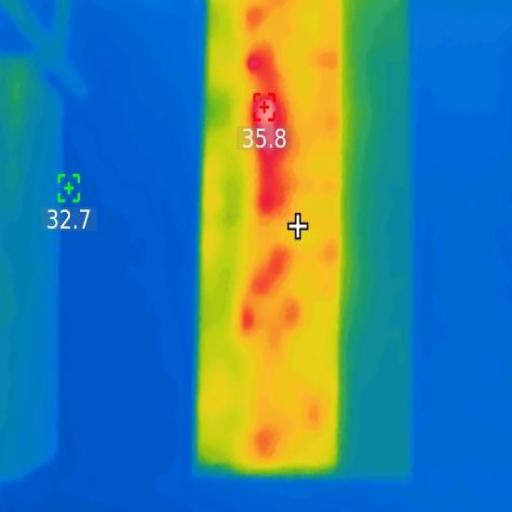hotspot: (253, 89, 285, 152), (238, 314, 258, 332), (273, 258, 282, 279)
